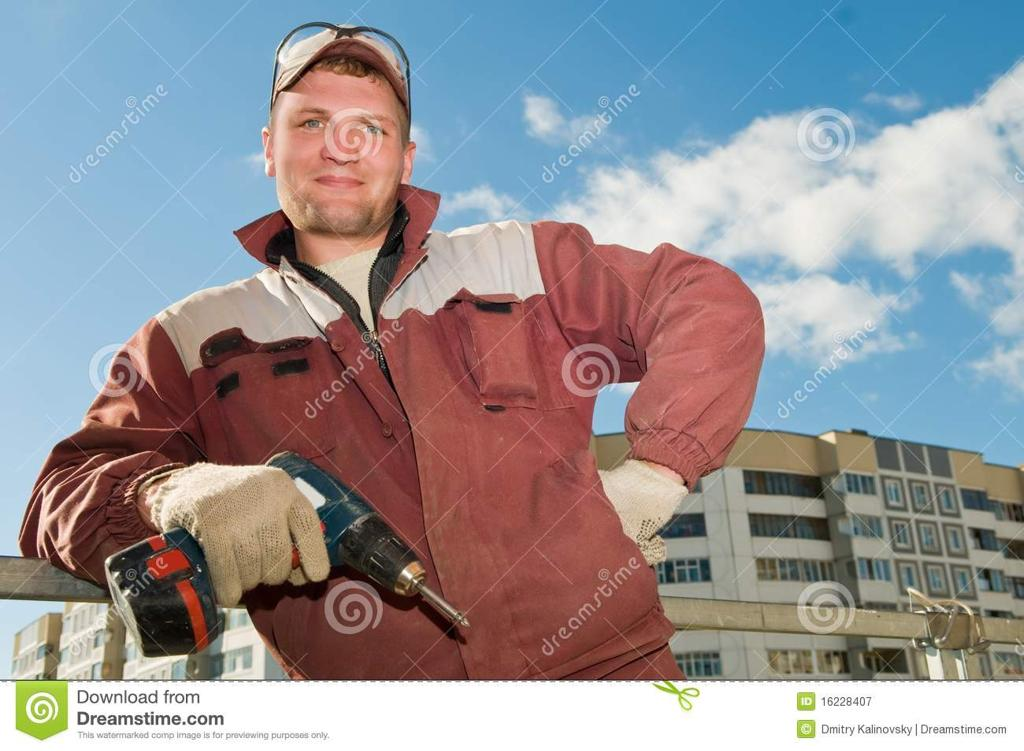face: (278, 68, 398, 220)
